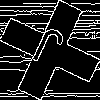J: (25, 25, 67, 77)
